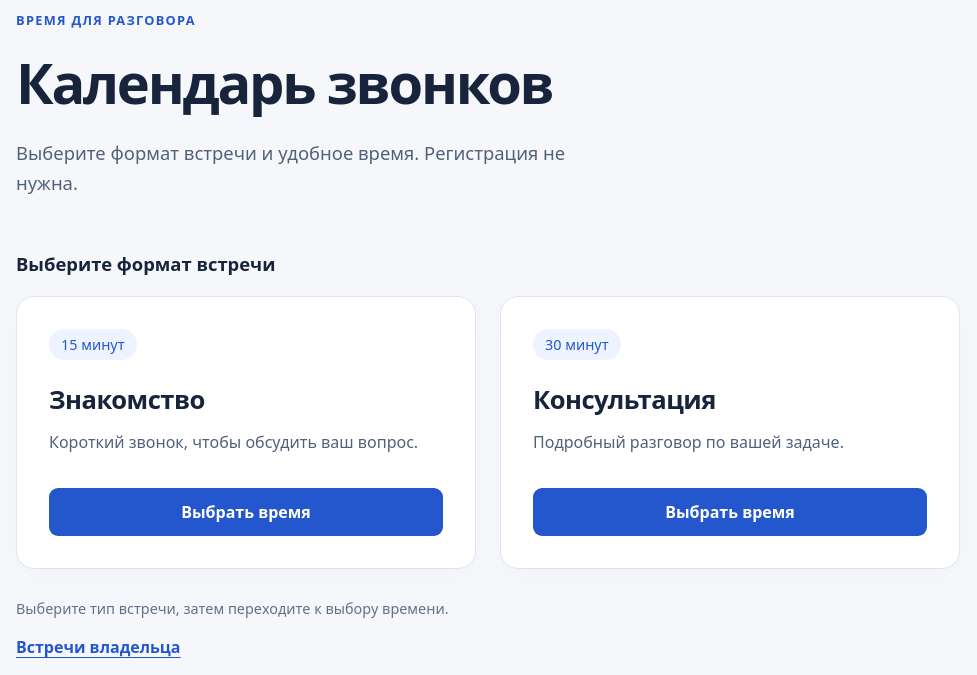
it: Путь гостя › переходит к записи на Консультация и видит свободное время
The width and height of the screenshot is (977, 675).
Click the link "Выбрать время" below "Подробный разговор по вашей задаче.". click: {"x": 730, "y": 512}
box: [533,488,927,536]
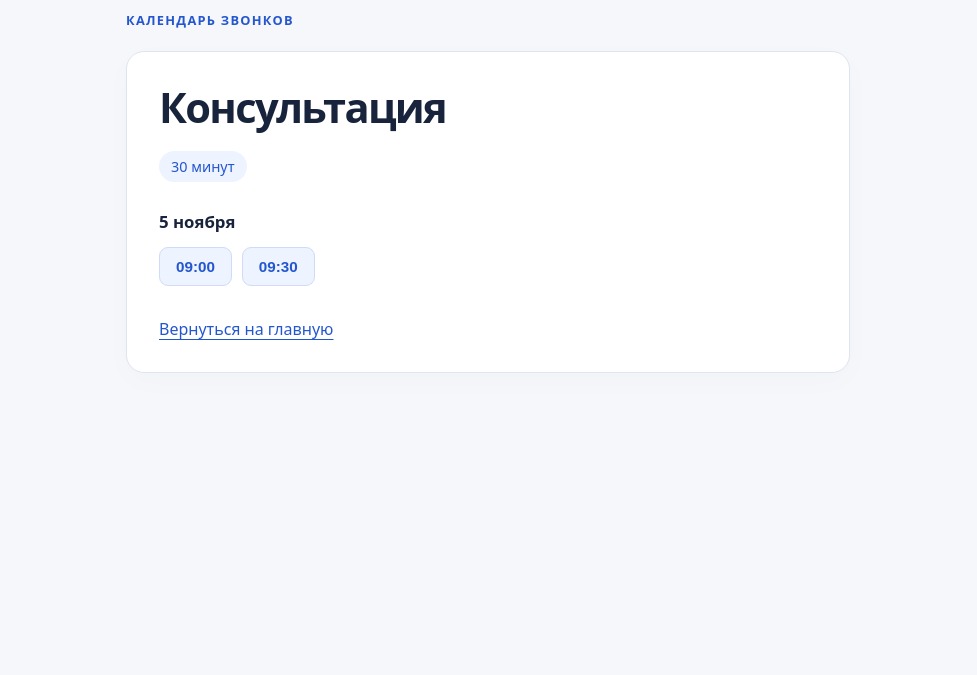
Expected: the text "30 минут" is shown, [159,151,247,182]
Result: the heading "Консультация" is shown at [159,79,446,135]
Result: the button "09:00" is shown at [159,248,232,286]
Click the link "Вернуться на главную". click: {"x": 246, "y": 330}
box: [159,318,334,340]
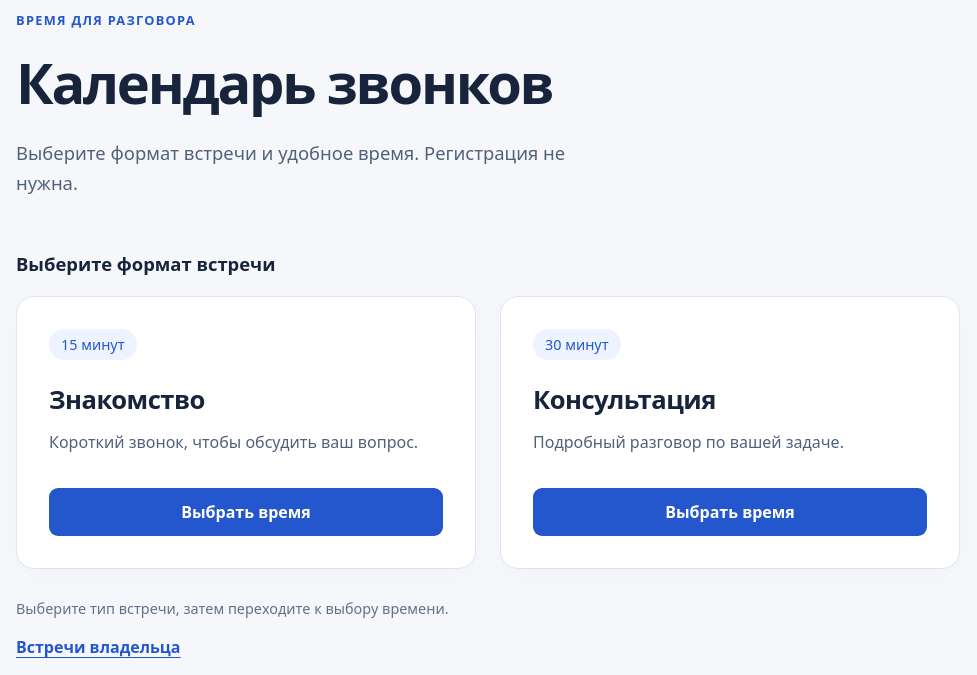
Result: the heading "Календарь звонков" is shown at [16,44,552,120]
